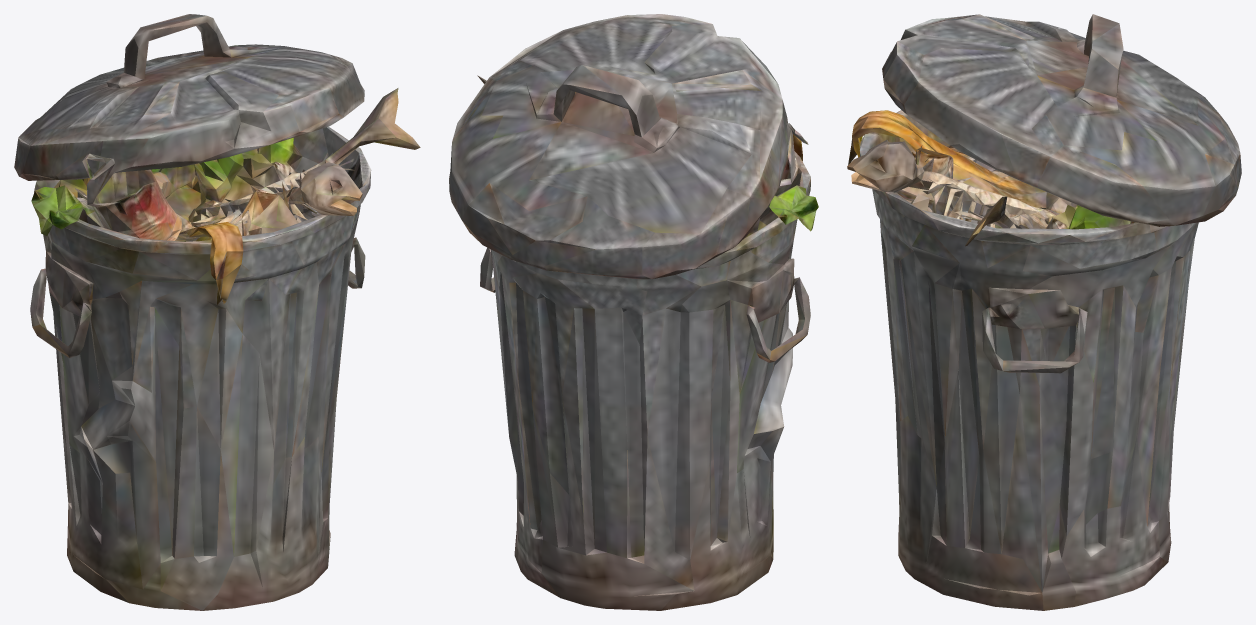
File: prop_bin.glb
3 views of the same model, side by side, from view 1: azimuth 30°, elevation 25°; view 2: azimuth 150°, elevation 25°; view 3: azimuth 270°, elevation 25° (orthographic). The views are drawn at different scales.
Bounding box in the file's own units: 1.36 × 1.89 × 1.28.
Materials: 1 (1 with a texture image).
